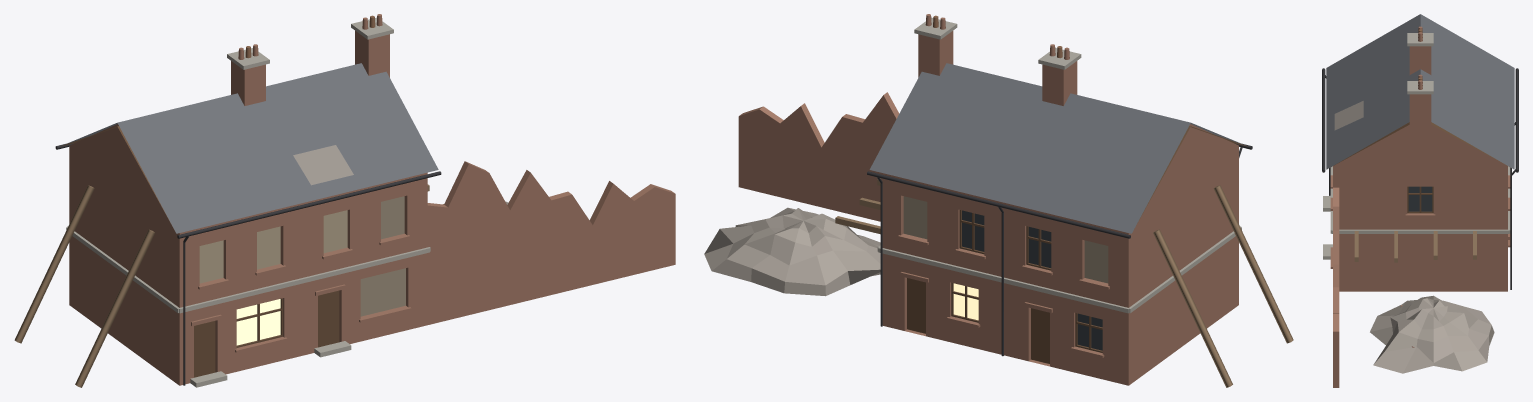
The model's file is prole_ruin.glb.
3 views of the same model, side by side, from view 1: azimuth 30°, elevation 25°; view 2: azimuth 150°, elevation 25°; view 3: azimuth 270°, elevation 25° (orthographic). The views are drawn at different scales.
Parts seen in each view (by area): view 1: prole_ruin; view 2: prole_ruin; view 3: prole_ruin.
Part boxes in pixels (bbox=[...]): prole_ruin: bbox=[14, 14, 675, 387]; prole_ruin: bbox=[704, 14, 1293, 387]; prole_ruin: bbox=[1322, 14, 1518, 387].
Bounding box in the file's own units: 24.09 × 10.87 × 8.98.
